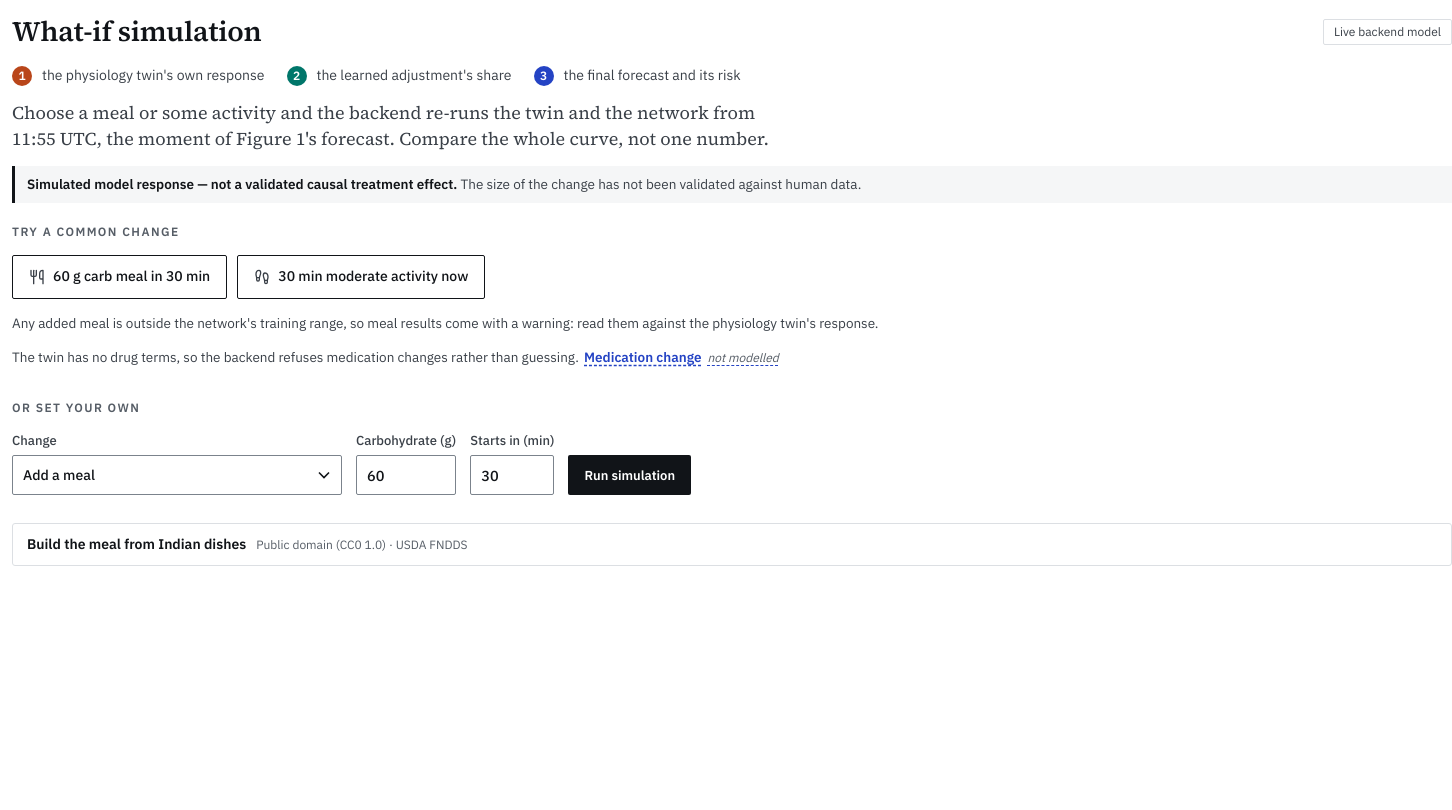
ScenarioEditor — backend-driven what-if › blocks out-of-range input before any request is sent
Replace the text in the number field labelled "Carbohydrate (g)" with "400" at (406, 475), box [356,455,456,495]
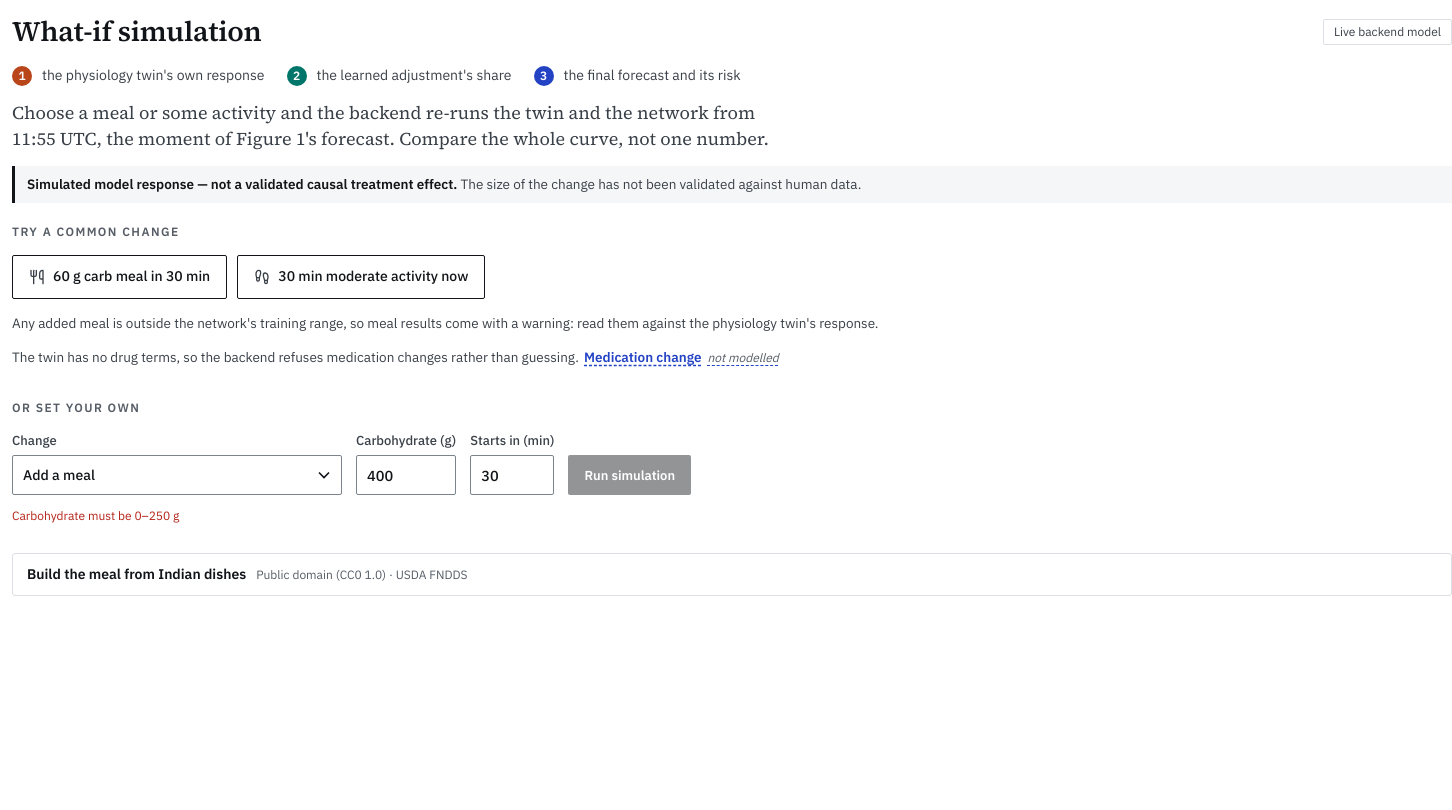
expect the message reads "Carbohydrate must be 0–250 g": met, box [12,508,179,523]
expect the button "Run simulation" is disabled: met, box [568,455,691,495]
